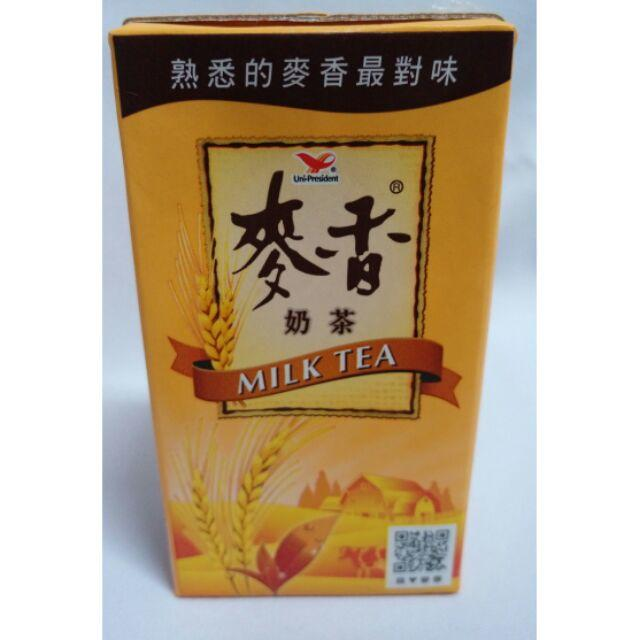milk tea: (108, 11, 517, 605)
